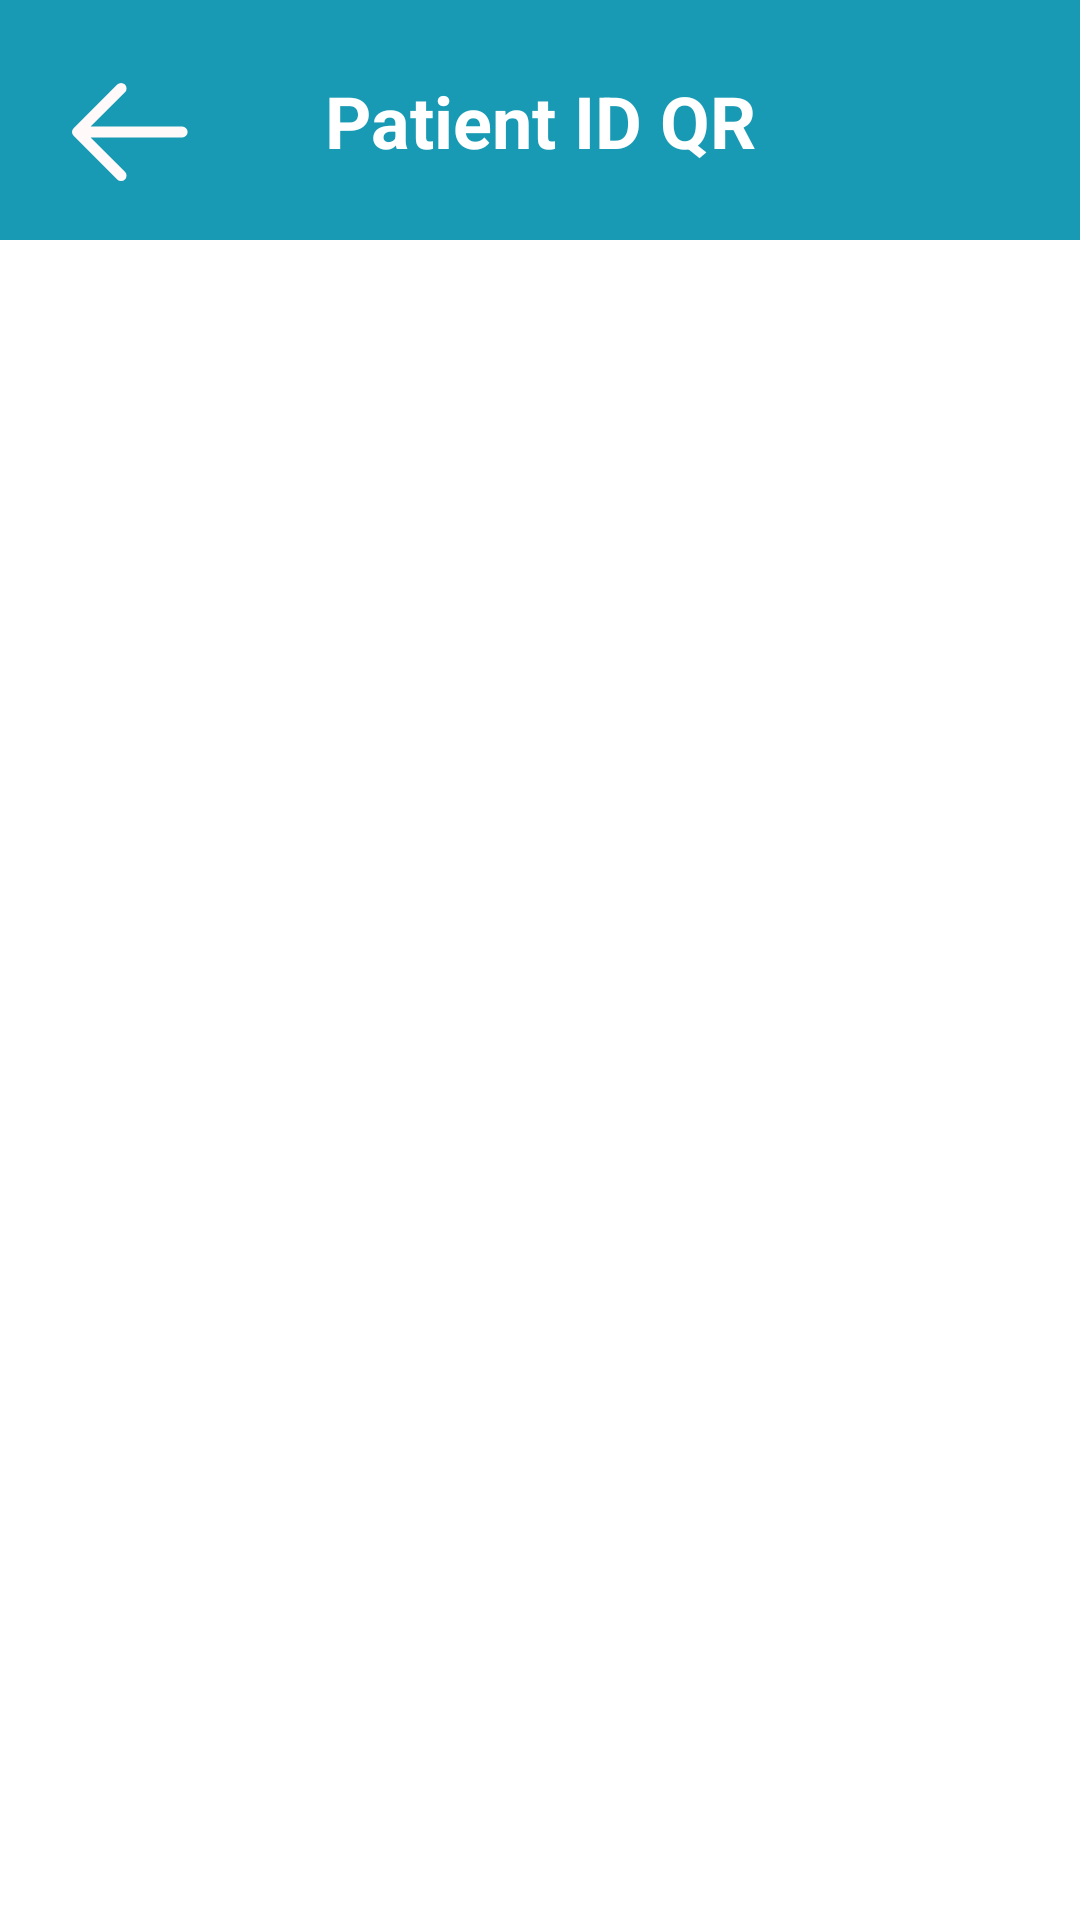

Where icons sit on this 1080w x 1920h app screen, as (x1, y1, x2, y2):
arrow: (72, 83, 188, 181)
